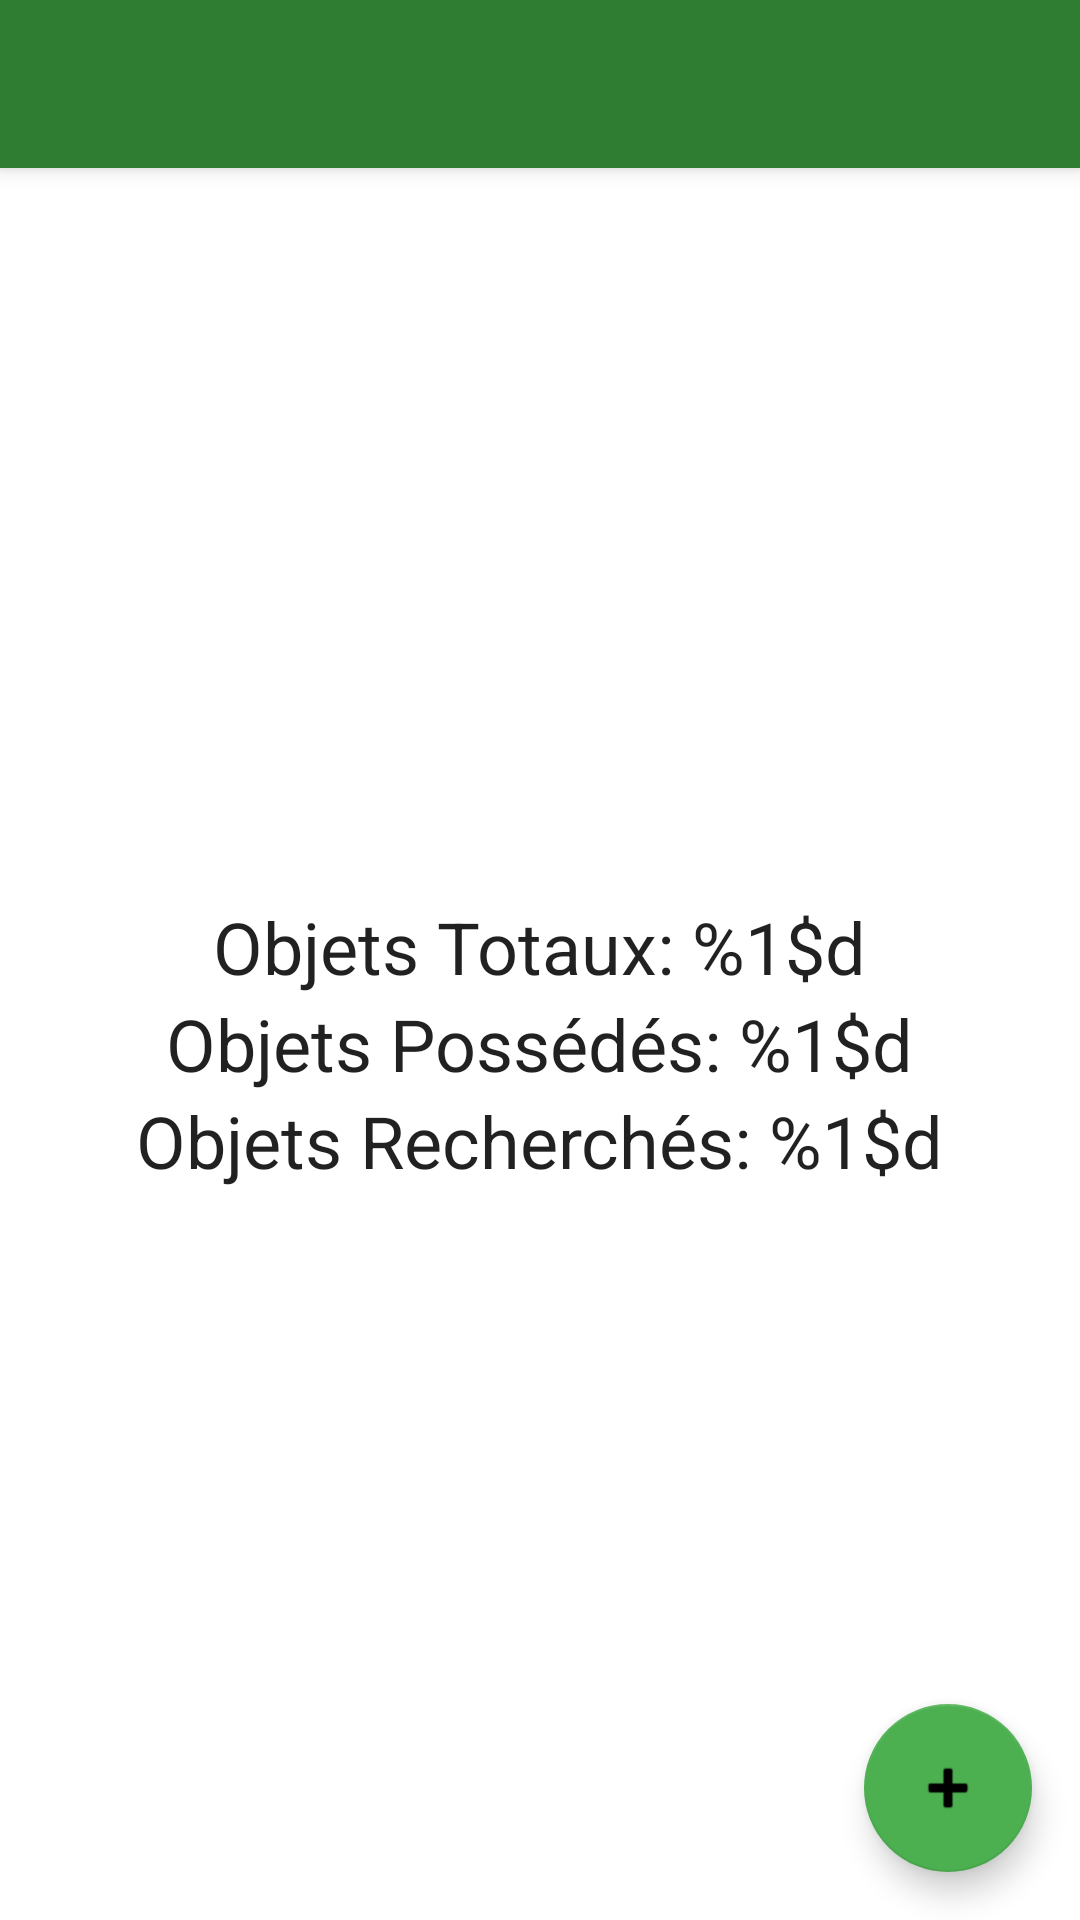

Where icons sit on this 1080×1920 app screen, as (x1, y1, x2, y2):
Ajouter un objet: (864, 1704, 1032, 1872)
